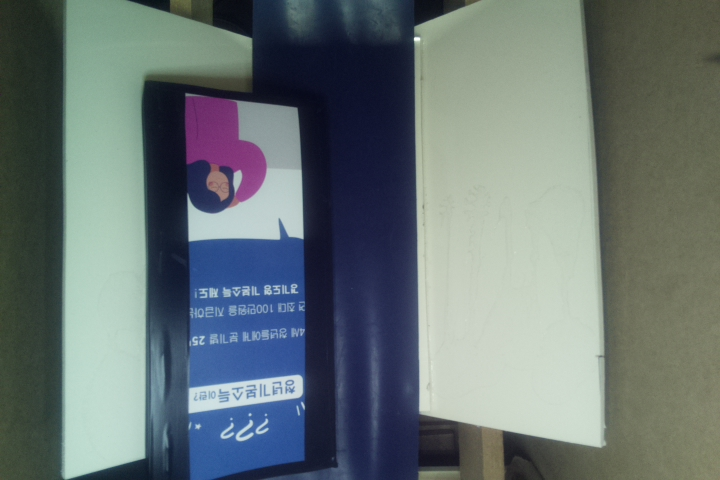book: (141, 78, 336, 480)
